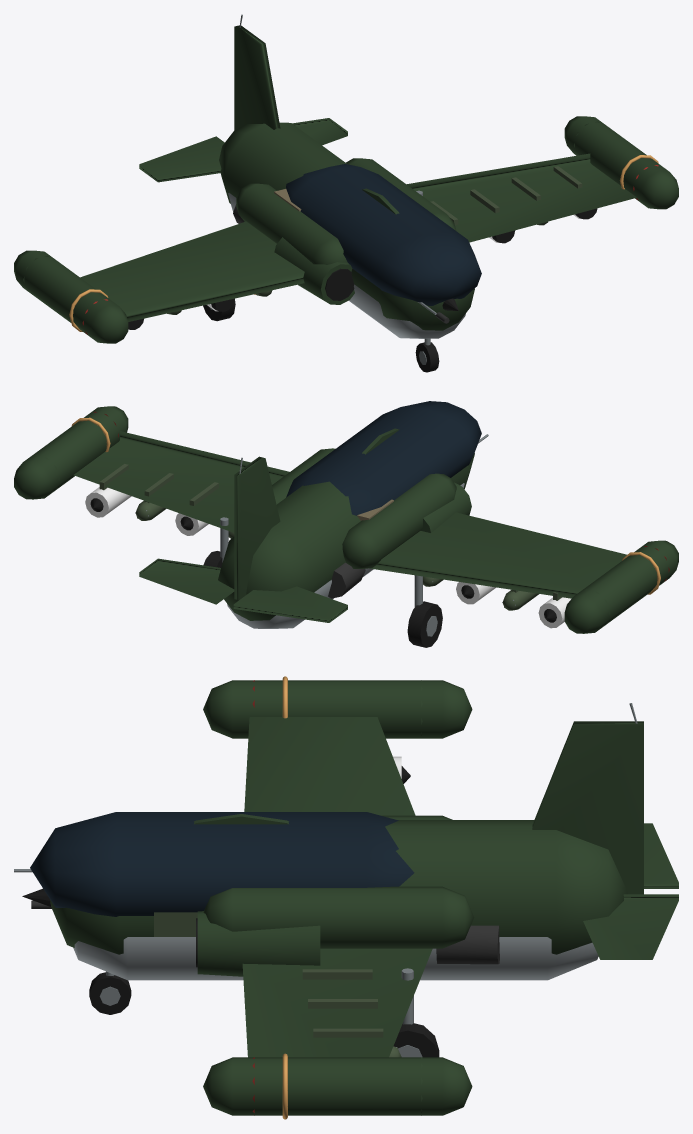
File: a37-dragonfly.glb
3 views of the same model, one above another, from view 1: azimuth 30°, elevation 25°; view 2: azimuth 150°, elevation 25°; view 3: azimuth 270°, elevation 25° (orthographic). The views are drawn at different scales.
Parts seen in each view (by area): view 1: Mesh_Canopy, Mesh_MainWingRight, Mesh_MainWingLeft, Mesh_UpperFuselage, Mesh_TipTank_R, Mesh_TipTank_L, Mesh_EngineHump_R, Mesh_VerticalFin, Mesh_TailWingRight, Mesh_IntakeCowl_R, Mesh_LowerFuselage, Mesh_EngineHump_L (+2 smaller); view 2: Mesh_MainWingRight, Mesh_Canopy, Mesh_UpperFuselage, Mesh_MainWingLeft, Mesh_TipTank_R, Mesh_TipTank_L, Mesh_EngineHump_R, Mesh_VerticalFin, Mesh_TailWingRight, Mesh_TailWingLeft, Mesh_MainWheel_R, Mesh_IntakeCowl_R (+8 smaller); view 3: Mesh_Canopy, Mesh_UpperFuselage, Mesh_MainWingLeft, Mesh_TipTank_L, Mesh_MainWingRight, Mesh_EngineHump_L, Mesh_VerticalFin, Mesh_TipTank_R, Mesh_LowerFuselage, Mesh_IntakeCowl_L, Mesh_TailWingLeft, Mesh_Exhaust_L (+8 smaller).
Part boxes in pixels (x1,y1,x2,y2): Mesh_Canopy: [286, 164, 481, 305]; Mesh_MainWingRight: [80, 221, 304, 321]; Mesh_MainWingLeft: [407, 153, 636, 242]; Mesh_UpperFuselage: [219, 122, 474, 330]; Mesh_TipTank_R: [14, 250, 128, 343]; Mesh_TipTank_L: [564, 116, 678, 209]; Mesh_EngineHump_R: [236, 183, 347, 264]; Mesh_VerticalFin: [234, 25, 280, 130]; Mesh_TailWingRight: [139, 136, 224, 182]; Mesh_IntakeCowl_R: [274, 237, 354, 304]; Mesh_LowerFuselage: [228, 193, 465, 338]; Mesh_EngineHump_L: [346, 158, 456, 230]; Mesh_MainWingRight: [369, 512, 626, 598]; Mesh_Canopy: [286, 401, 481, 515]; Mesh_UpperFuselage: [218, 453, 474, 620]; Mesh_MainWingLeft: [73, 431, 289, 532]; Mesh_TipTank_R: [564, 540, 678, 633]; Mesh_TipTank_L: [14, 406, 128, 499]; Mesh_EngineHump_R: [342, 473, 456, 568]; Mesh_VerticalFin: [234, 456, 280, 600]; Mesh_TailWingRight: [233, 586, 347, 622]; Mesh_TailWingLeft: [139, 558, 234, 604]; Mesh_MainWheel_R: [407, 601, 442, 647]; Mesh_IntakeCowl_R: [420, 482, 471, 532]; Mesh_Canopy: [30, 812, 414, 916]; Mesh_UpperFuselage: [50, 820, 627, 954]; Mesh_MainWingLeft: [242, 948, 432, 1057]; Mesh_TipTank_L: [203, 1057, 472, 1115]; Mesh_MainWingRight: [244, 717, 415, 815]; Mesh_EngineHump_L: [203, 886, 474, 948]; Mesh_VerticalFin: [532, 721, 643, 894]; Mesh_TipTank_R: [203, 680, 472, 738]; Mesh_LowerFuselage: [73, 937, 598, 980]; Mesh_IntakeCowl_L: [197, 911, 320, 976]; Mesh_TailWingLeft: [583, 894, 678, 959]; Mesh_Exhaust_L: [436, 925, 499, 964].
Size of the model in its own units: 5.48 by 1.95 by 3.8.
